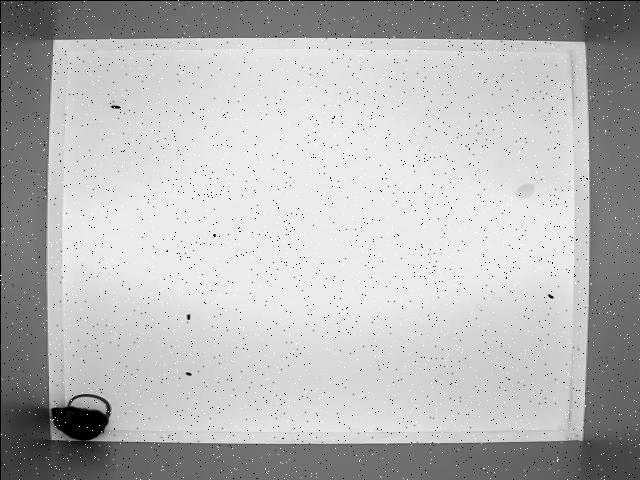Tikus: (49, 391, 110, 441)
